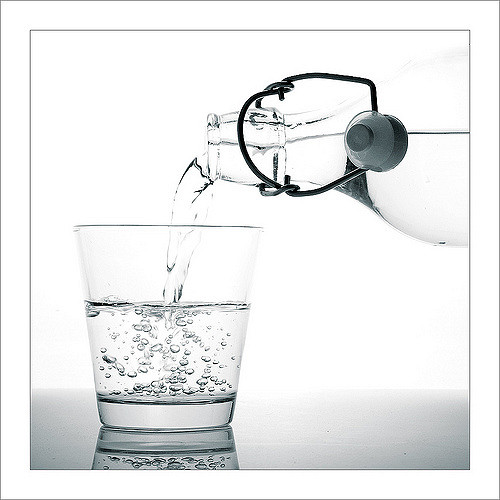glass of water: (81, 222, 243, 429)
